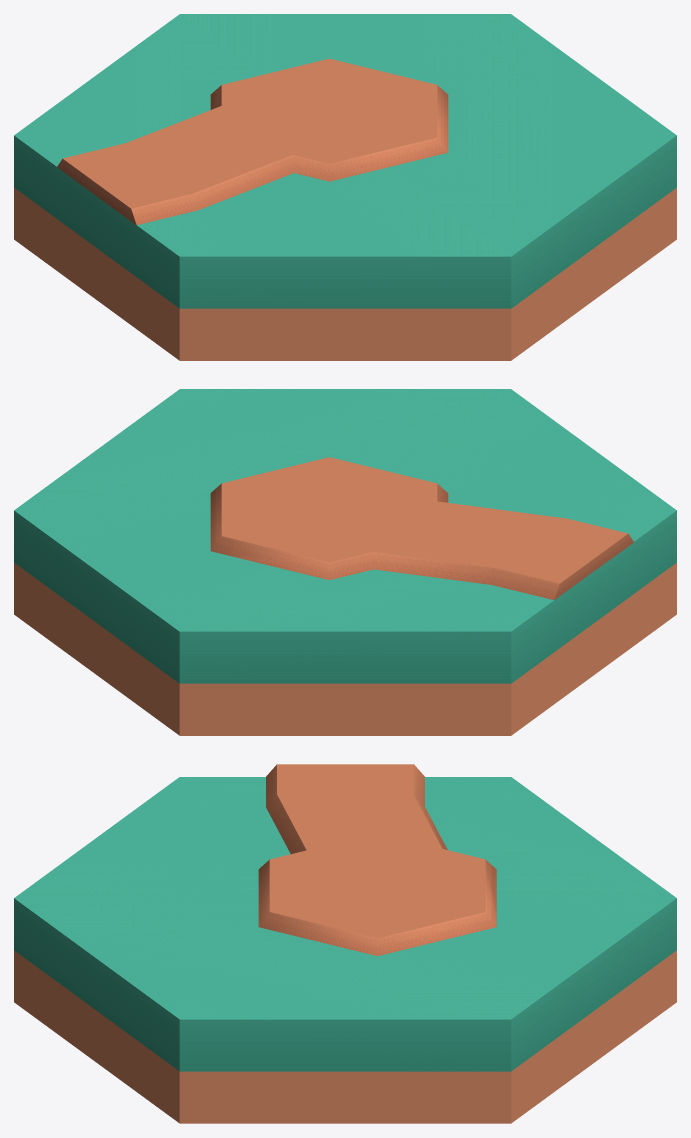
File: grass-path-start.glb
The picture shows the model from 3 angles, top to bottom: view 1: azimuth 30°, elevation 25°; view 2: azimuth 150°, elevation 25°; view 3: azimuth 270°, elevation 25°; orthographic projection.
Visible parts, largest first — view 1: grass, path-start; view 2: grass, path-start; view 3: grass, path-start.
Boxes of the visible parts, x1,y1,x2,y2 form: grass: (14, 14, 676, 360); path-start: (57, 58, 448, 225); grass: (14, 389, 676, 735); path-start: (210, 457, 633, 599); grass: (14, 777, 676, 1123); path-start: (258, 764, 496, 956).
Bounding box in the file's own units: 1 × 0.224 × 1.15.
1 material, 1 textured.
